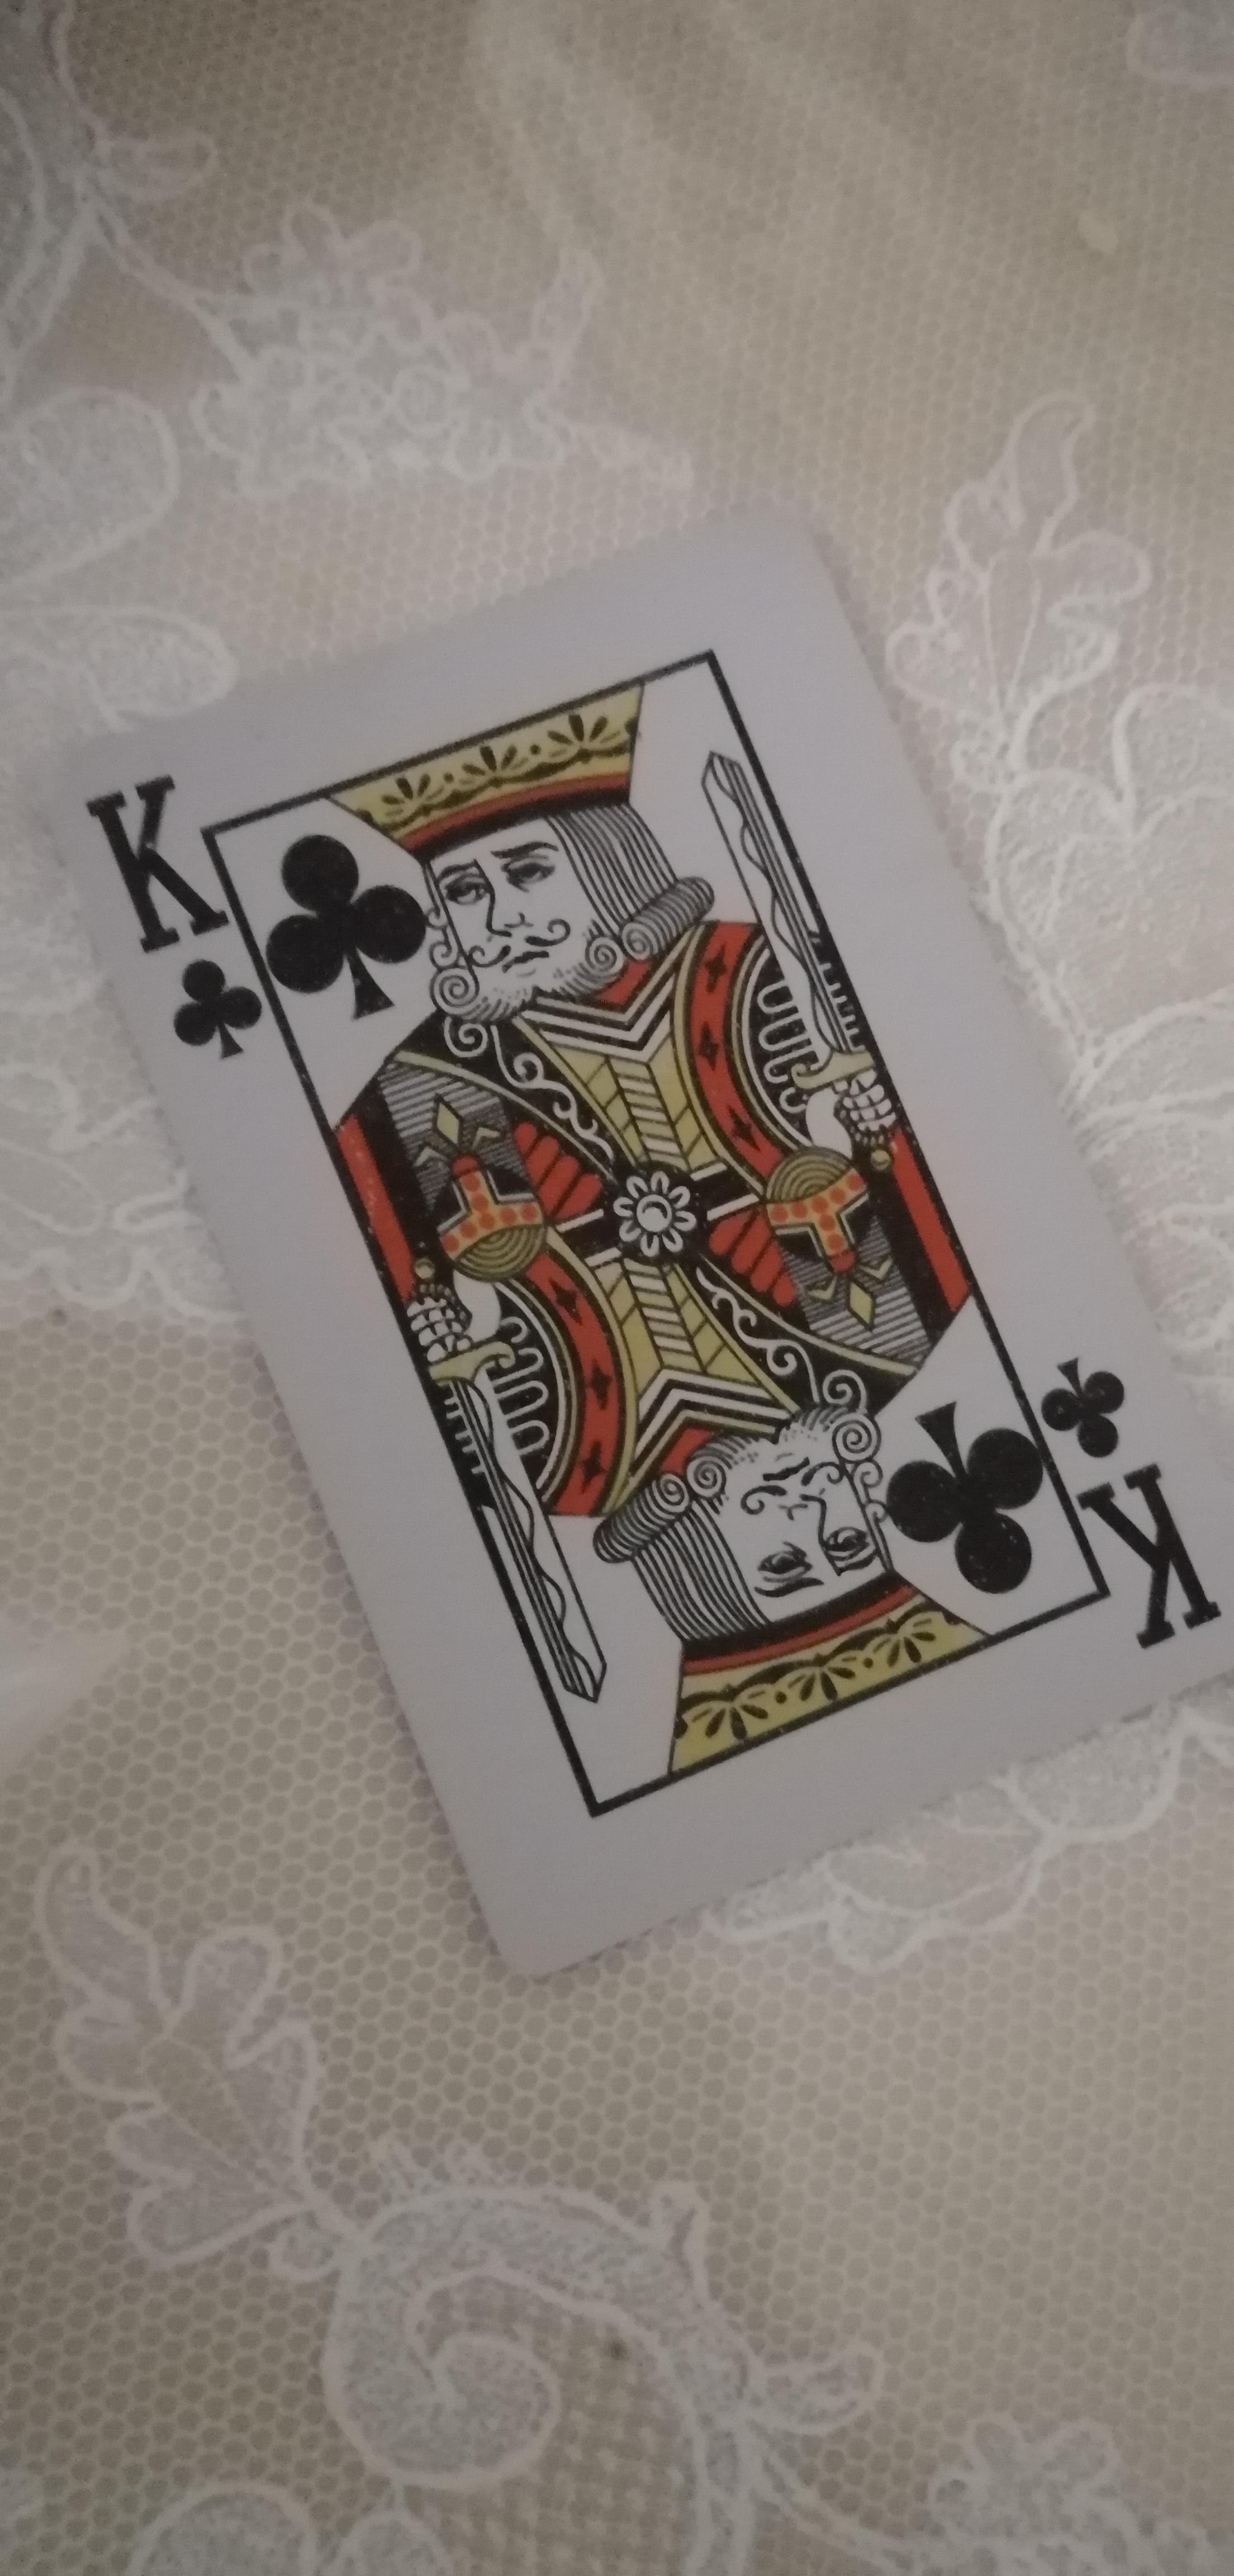king: (69, 508, 1229, 1866)
